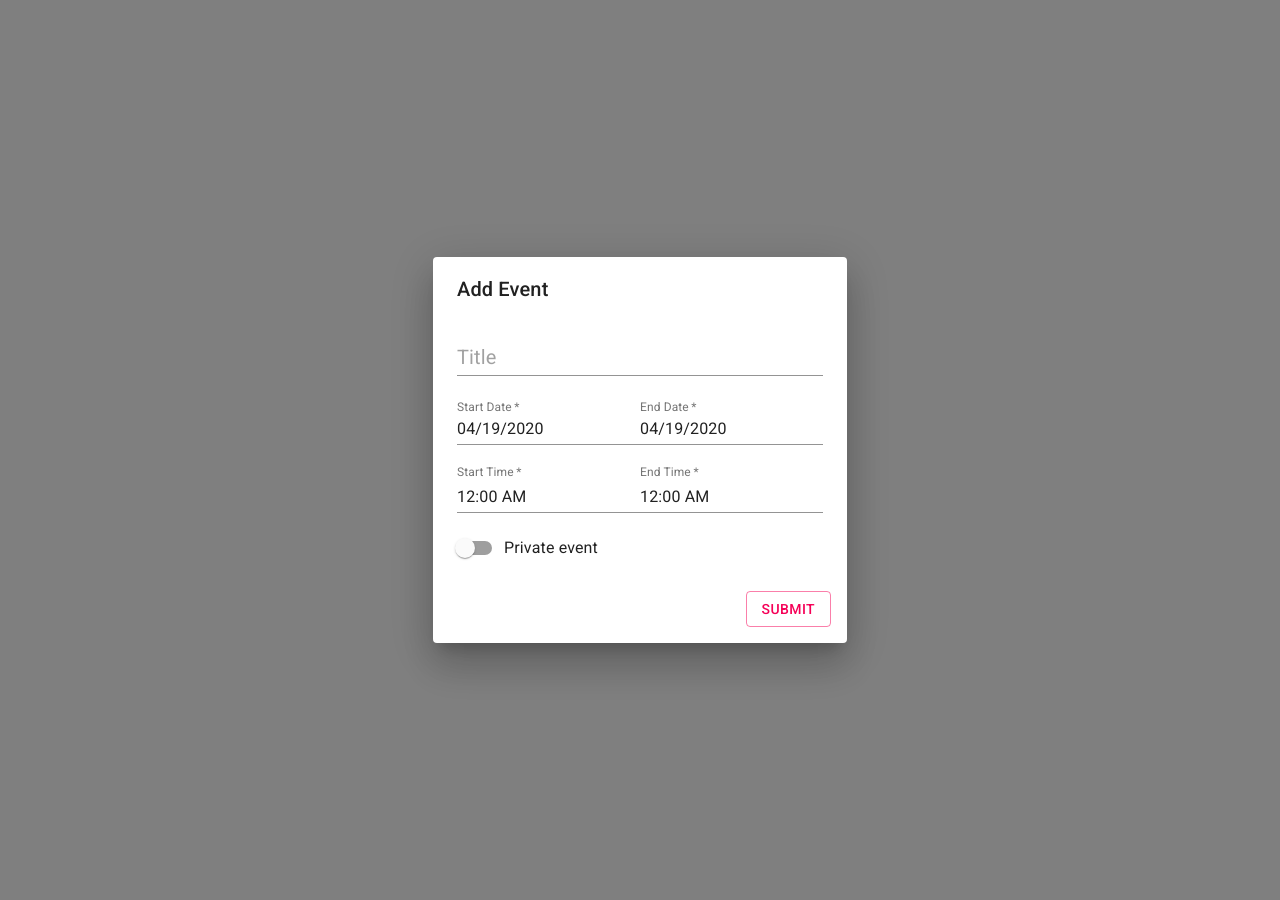
Scenario: Add Event Form › Validation fails when start date is equal to today's date
This screenshot has width=1280, height=900.
# Click the submit button
Click the button "Submit".
click(788, 609)  # box [746,591,831,627]
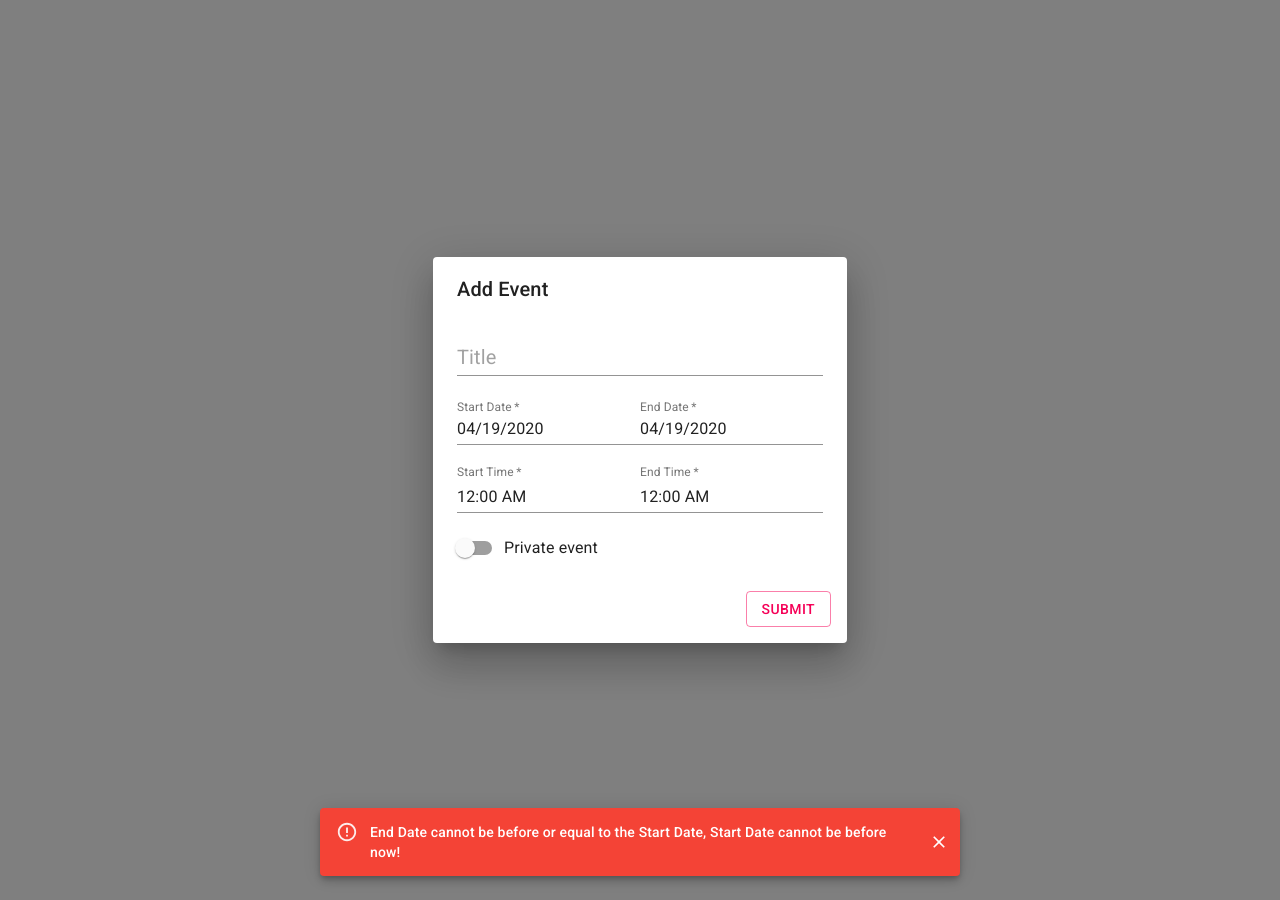
Expected: the text "End Date cannot be before or equal to the Start Date, Start Date cannot be before now!" is shown, [370,824,886,860]
